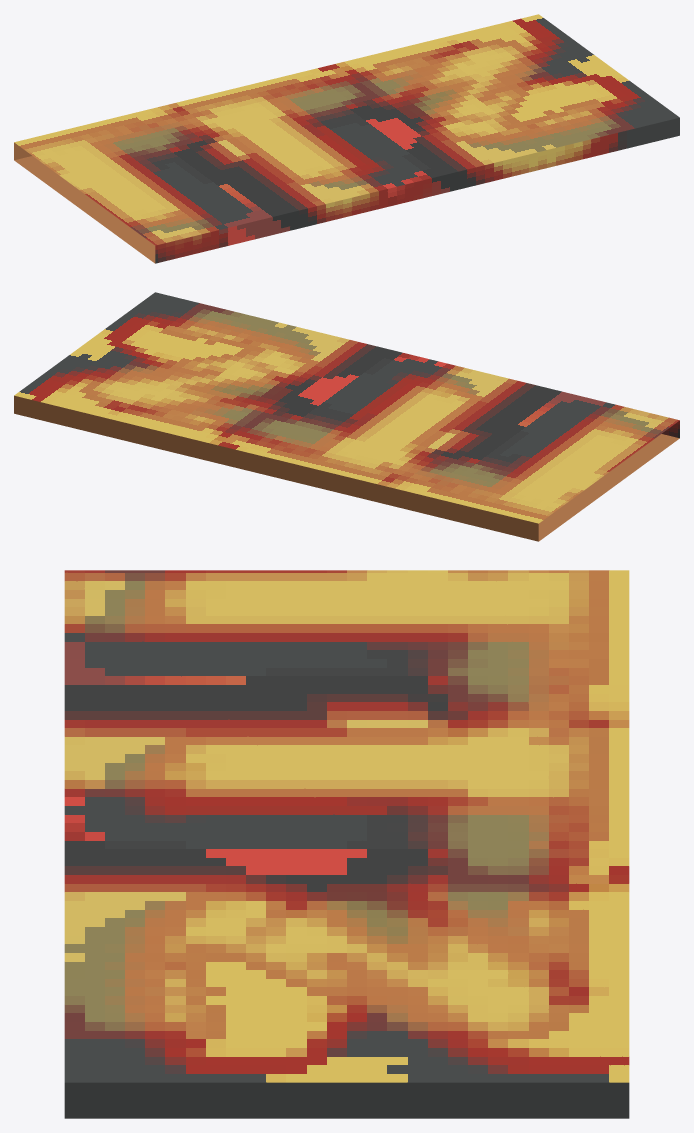
File: section-7.obj
The picture shows the model from 3 angles, top to bottom: view 1: azimuth 30°, elevation 25°; view 2: azimuth 150°, elevation 25°; view 3: azimuth 270°, elevation 25°; orthographic projection. The views are drawn at different scales.
Bounding box in the file's own units: 0.9241 × 0.0304 × 0.4307.
1 material, 1 textured.
